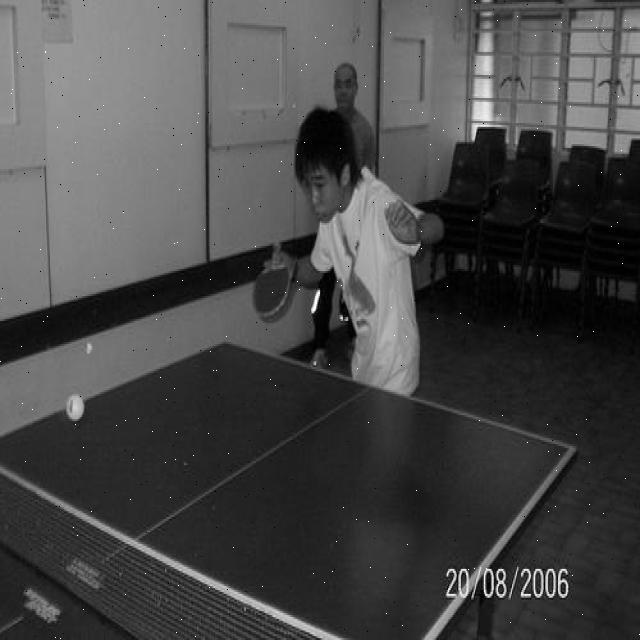ping-pong-ball: (64, 392, 84, 420)
